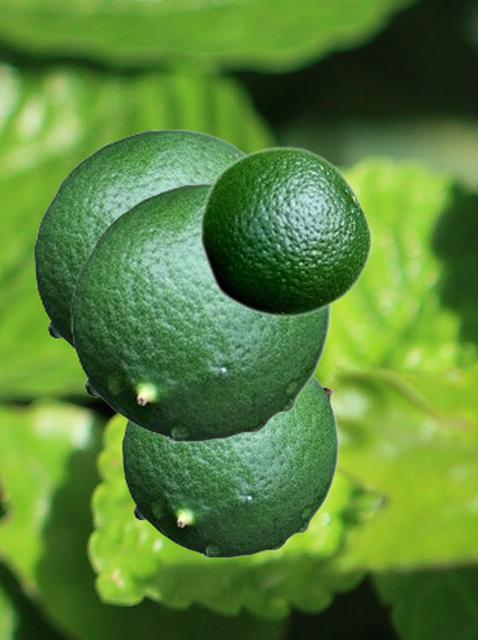calamansi: (70, 182, 330, 441), (33, 128, 248, 353), (121, 376, 338, 557), (198, 145, 372, 318)
